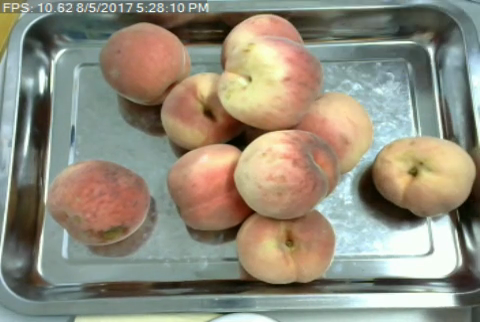Peach: (230, 132, 339, 219), (368, 135, 478, 218), (47, 158, 150, 246), (220, 40, 320, 127), (160, 70, 254, 152), (168, 143, 254, 232), (102, 21, 189, 108), (235, 213, 335, 285), (293, 92, 371, 173)
